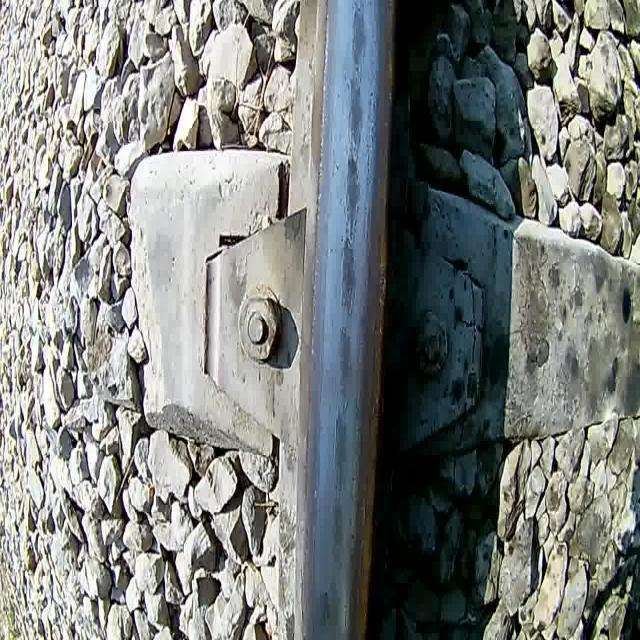Cracks: (342, 200, 362, 255), (329, 401, 343, 465), (346, 121, 365, 168), (337, 276, 356, 316), (368, 87, 378, 148), (342, 580, 351, 636), (362, 199, 371, 246), (365, 149, 371, 190)
Squats: (332, 320, 356, 410), (336, 231, 360, 319), (313, 572, 340, 640), (331, 408, 352, 495), (343, 150, 363, 238), (345, 70, 365, 150), (347, 0, 369, 71), (328, 490, 347, 559)
